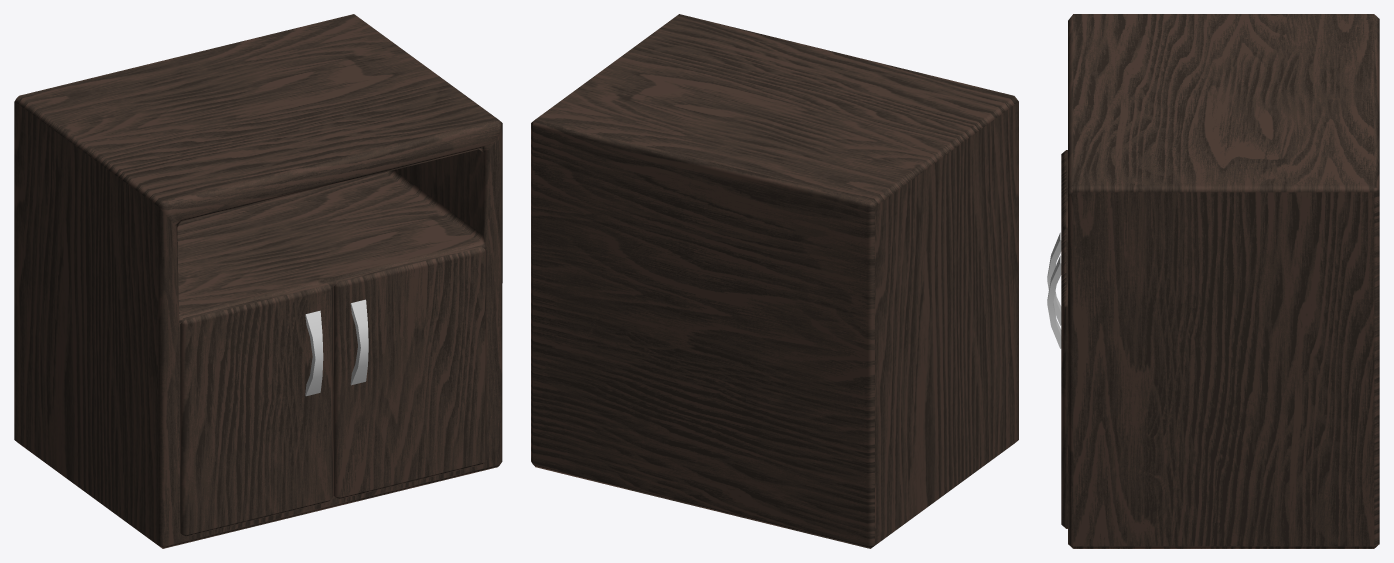
File: dresser_034.fbx
3 renders of one model, left to right at view 1: azimuth 30°, elevation 25°; view 2: azimuth 150°, elevation 25°; view 3: azimuth 270°, elevation 25°, orthographic. The views are drawn at different scales.
Parts seen in each view (by area): view 1: dresser_034; view 2: dresser_034; view 3: dresser_034.
Boxes of the visible parts, x1,y1,x2,y2 form: dresser_034: [14, 14, 502, 548]; dresser_034: [531, 14, 1018, 548]; dresser_034: [1047, 14, 1379, 548].
Size of the model in its own units: 86.13 by 68.89 by 83.21.
